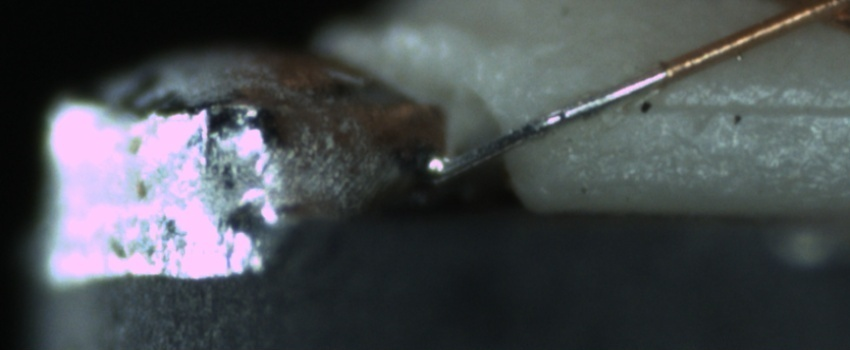CL: (763, 1, 847, 33)
DL: (635, 76, 850, 136)
TS: (421, 63, 658, 185)
